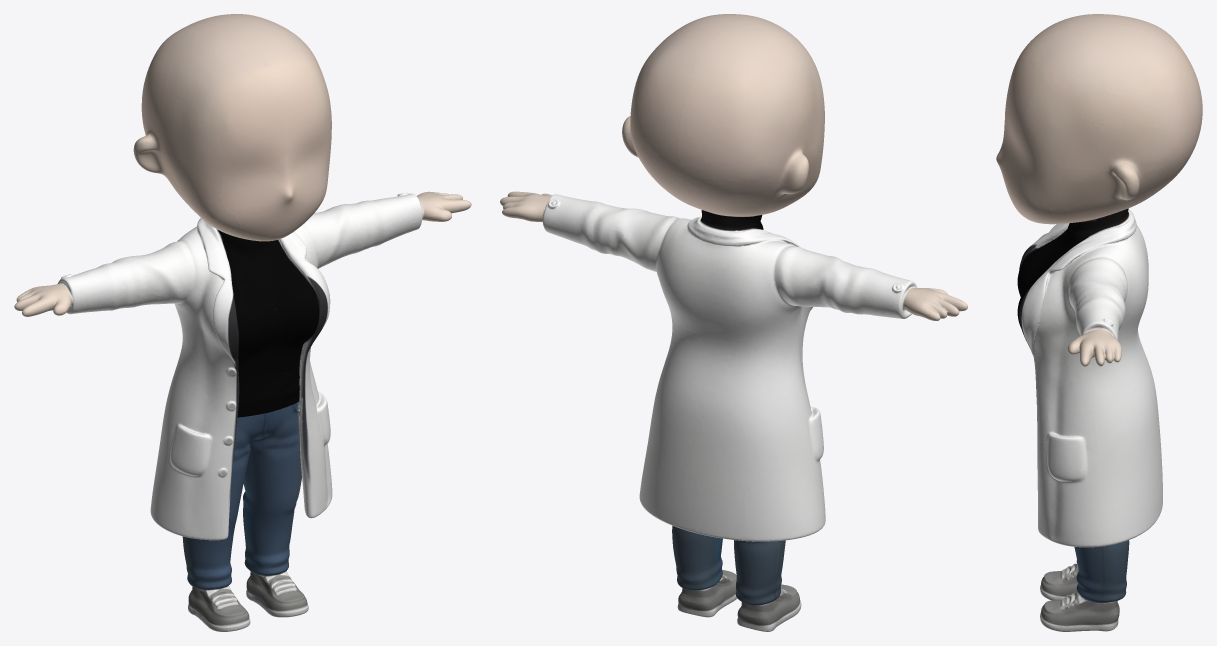
Rendered from baked_outfit_labcoat.glb.
3 views of the same model, side by side, from view 1: azimuth 30°, elevation 25°; view 2: azimuth 150°, elevation 25°; view 3: azimuth 270°, elevation 25° (orthographic). The views are drawn at different scales.
Size of the model in its own units: 1.54 by 1.9 by 0.6072.
Materials: 1 (1 with a texture image).
